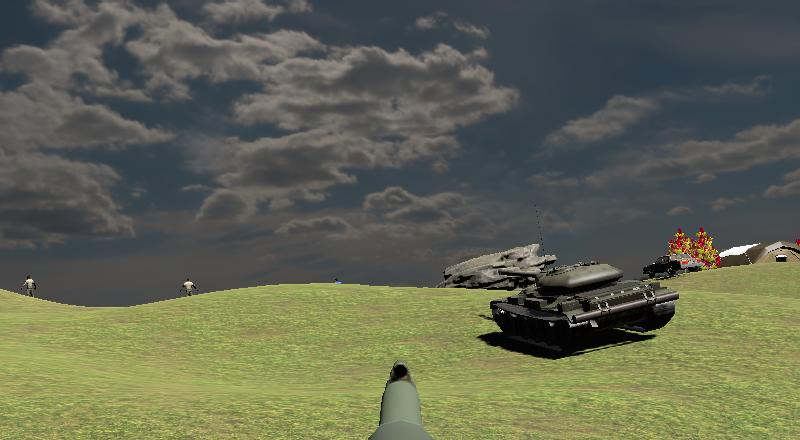Human: (20, 272, 40, 300), (178, 275, 200, 300)
Tank: (485, 255, 683, 361)
